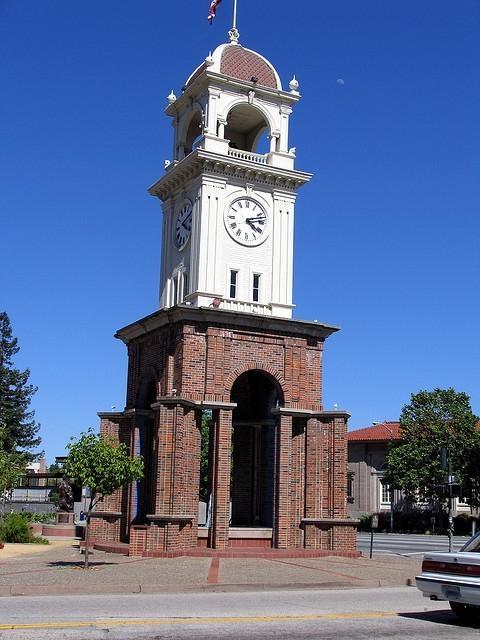car: (414, 531, 480, 626)
